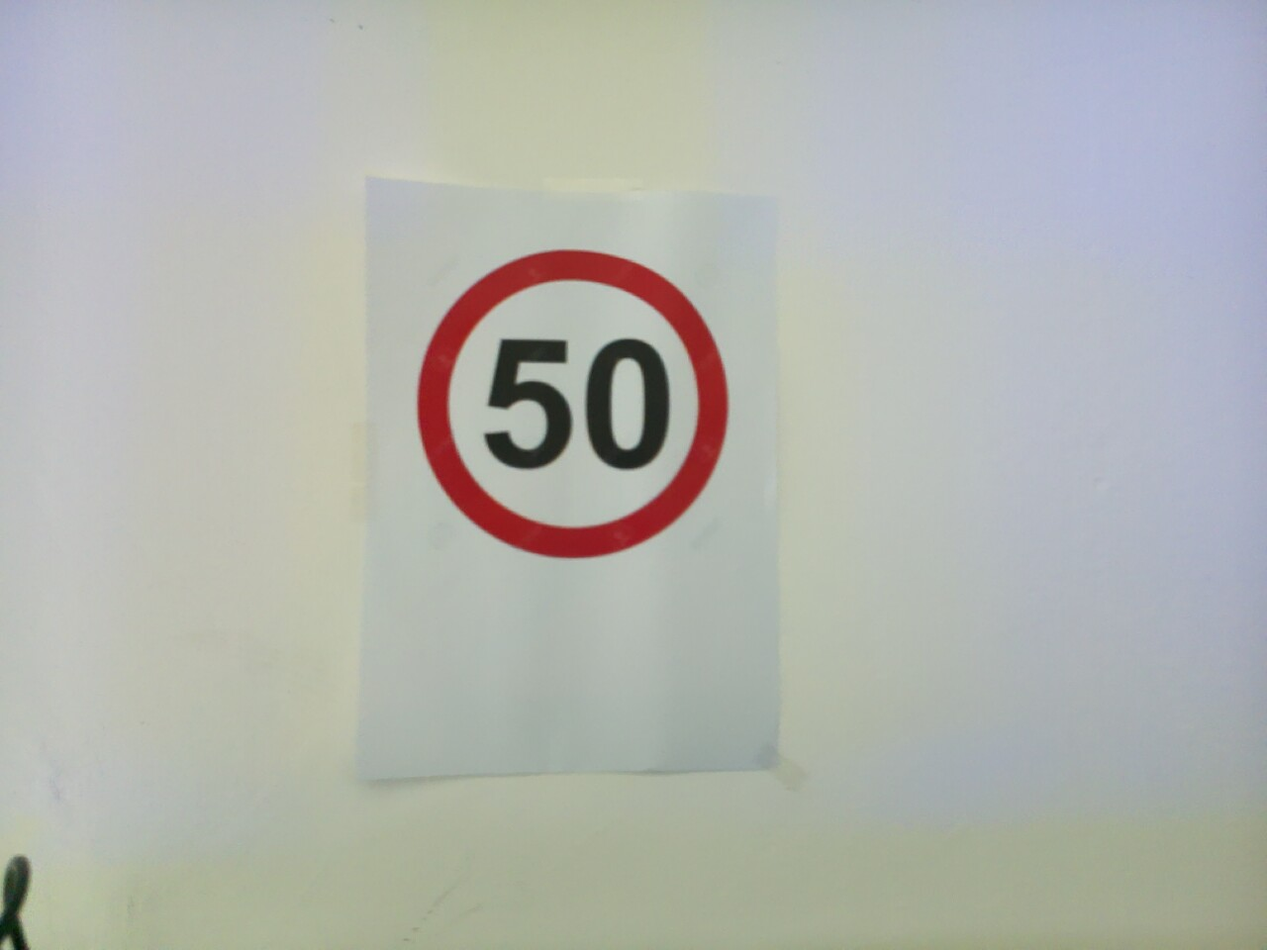speed_50: (407, 239, 738, 569)
